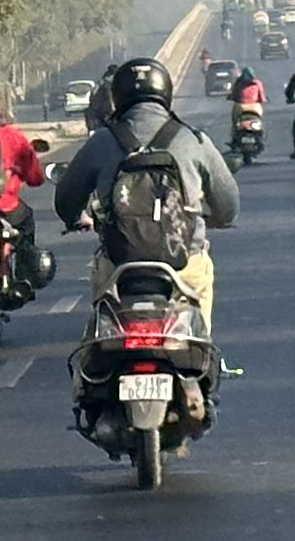BikeWithRider: (46, 53, 240, 491), (228, 62, 273, 168)
Helmet: (109, 55, 181, 124)
